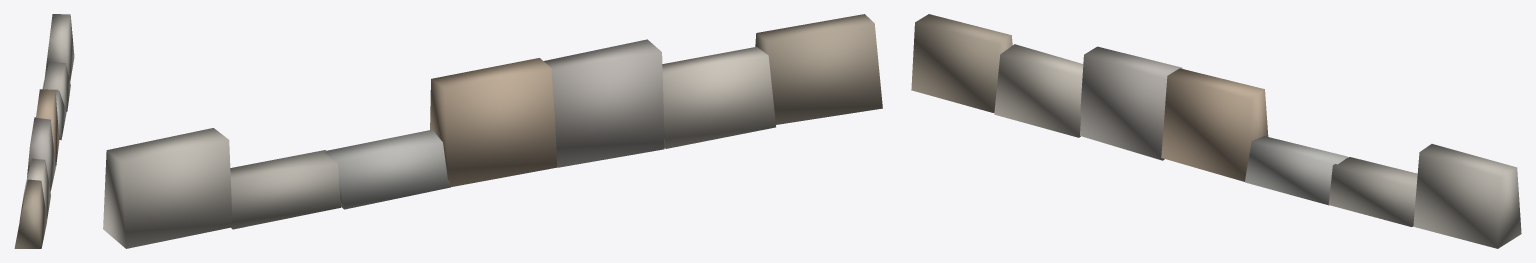
Rendered from farm_9_9_far.glb.
3 renders of one model, left to right at view 1: azimuth 30°, elevation 25°; view 2: azimuth 150°, elevation 25°; view 3: azimuth 270°, elevation 25°, orthographic. The views are drawn at different scales.
Visible parts, largest first — view 1: geometry_0; view 2: geometry_0; view 3: geometry_0.
Part boxes in pixels (x1,y1,x2,y2): geometry_0: (14,14,74,248); geometry_0: (103,14,882,248); geometry_0: (911,14,1521,248).
Size of the model in its own units: 6.54 by 1.44 by 9.14.
